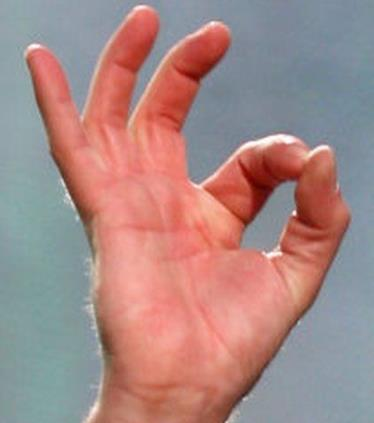left: (18, 2, 370, 371)
